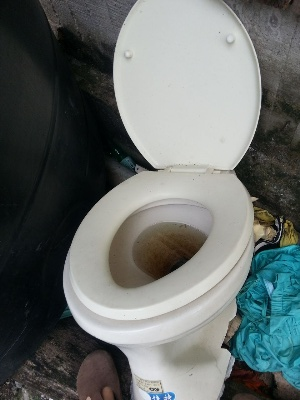toilet: (59, 1, 274, 399)
